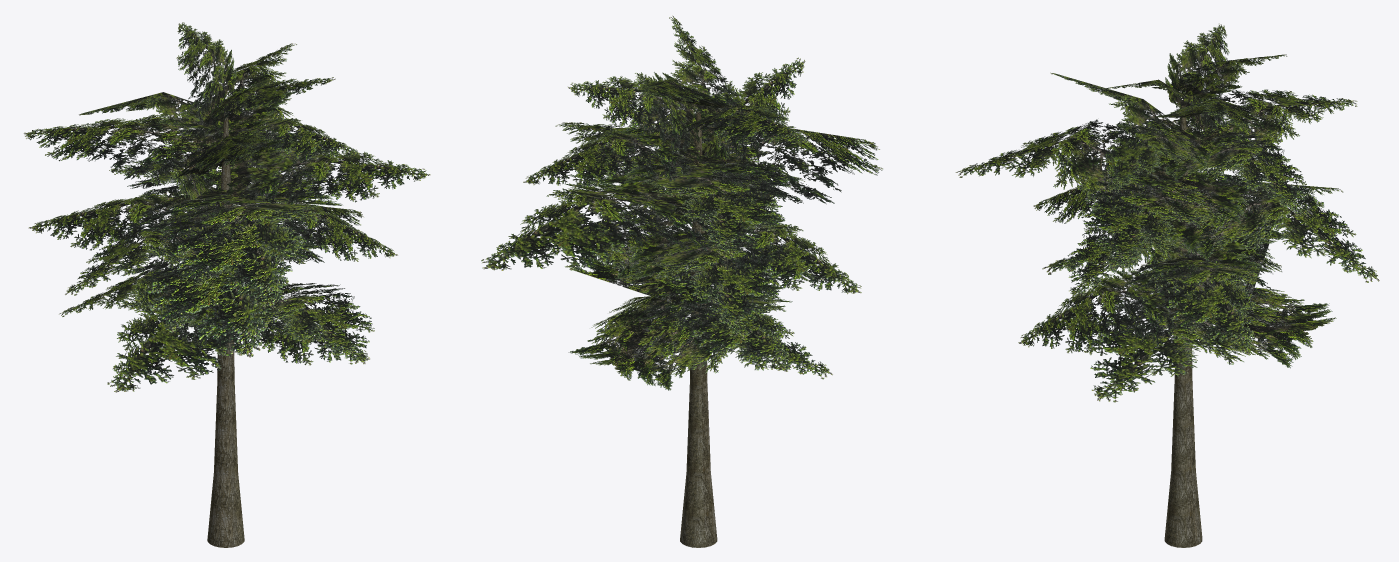
Rendered from pine1.FBX.
The picture shows the model from 3 angles, left to right: view 1: azimuth 30°, elevation 25°; view 2: azimuth 150°, elevation 25°; view 3: azimuth 270°, elevation 25°; orthographic projection.
Parts seen in each view (by area): view 1: pine1; view 2: pine1; view 3: pine1.
Boxes of the visible parts, <box> form: pine1: <box>23,22,430,547</box>; pine1: <box>481,15,882,547</box>; pine1: <box>955,23,1379,547</box>.
Size of the model in its own units: 106 by 141 by 113.
Materials: 2 (2 with a texture image).
